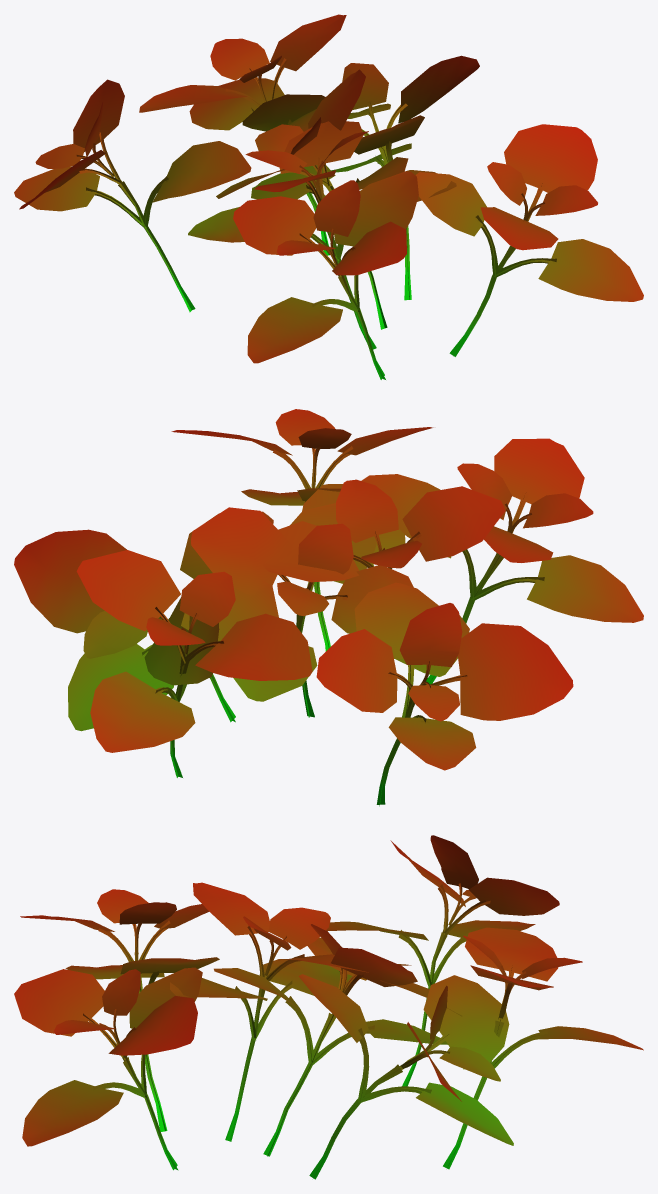
Rendered from Yellow Archangel_LOD0_Var9_wcwmcfvia.fbx.
3 views of the same model, one above another, from view 1: azimuth 30°, elevation 25°; view 2: azimuth 150°, elevation 25°; view 3: azimuth 270°, elevation 25° (orthographic). The views are drawn at different scales.
Parts seen in each view (by area): view 1: _1rvp_Var9_LOD0; view 2: _1rvp_Var9_LOD0; view 3: _1rvp_Var9_LOD0.
Boxes of the visible parts, left/top/right/bottom form: _1rvp_Var9_LOD0: left=14, top=14, right=643, bottom=379; _1rvp_Var9_LOD0: left=14, top=409, right=643, bottom=806; _1rvp_Var9_LOD0: left=14, top=835, right=643, bottom=1179.
Bounding box in the file's own units: 10.2 × 4.4 × 11.26.
